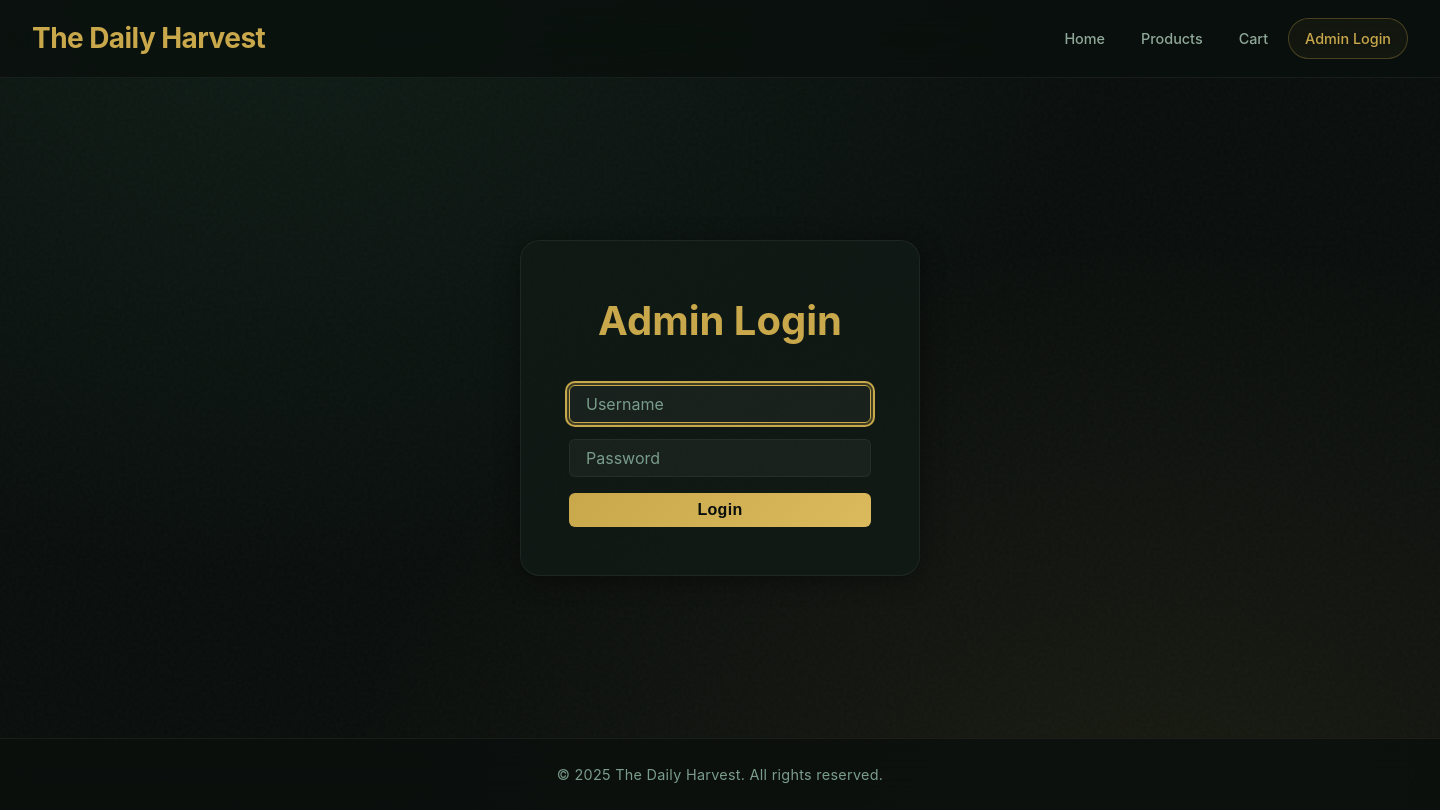
Test case: LoginPage › shows error for invalid credentials
Type "wrong" into the field with placeholder "Username" at [720, 404], box left=569, top=385, right=871, bottom=423
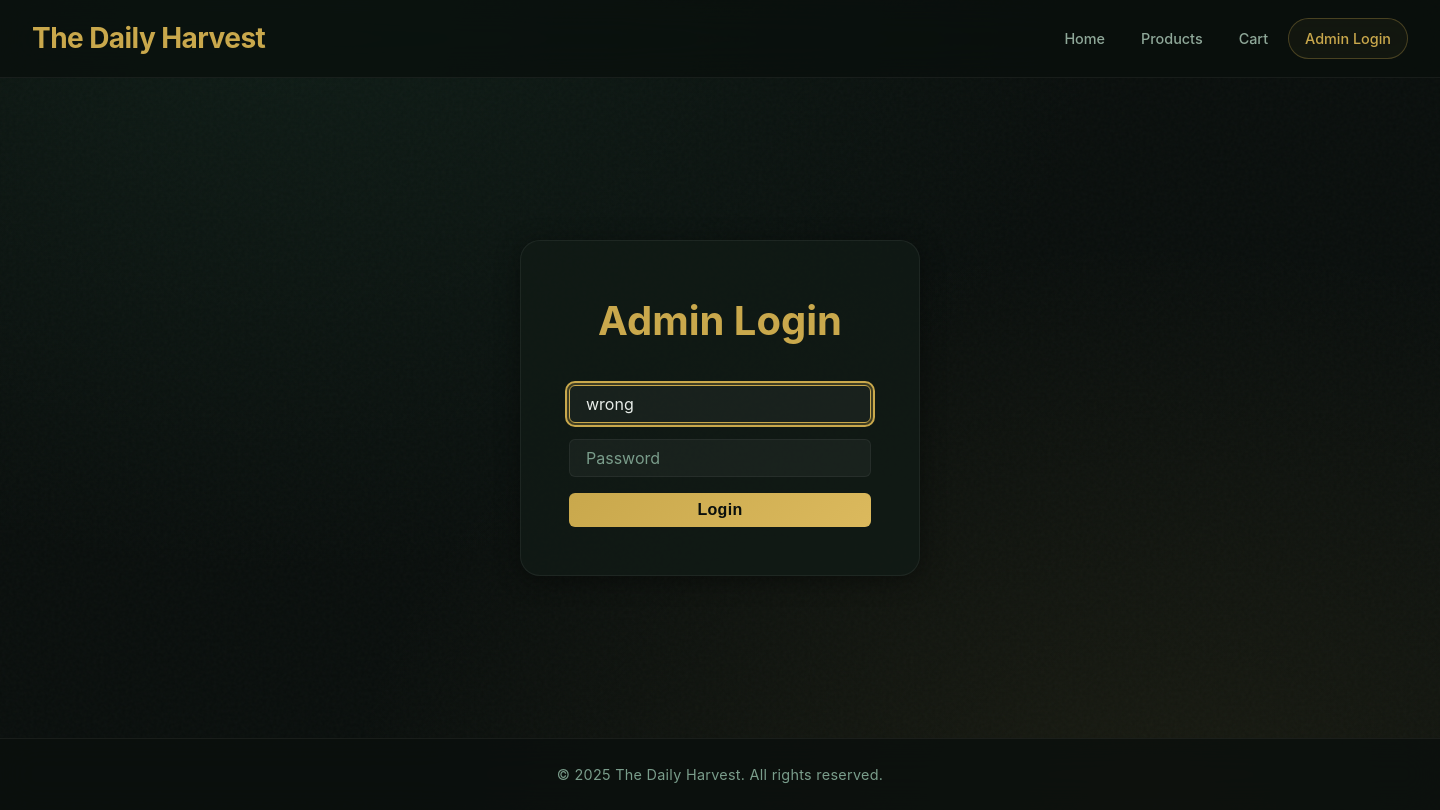
Type "wrong" into the password field with placeholder "Password" at [720, 458], box left=569, top=439, right=871, bottom=477
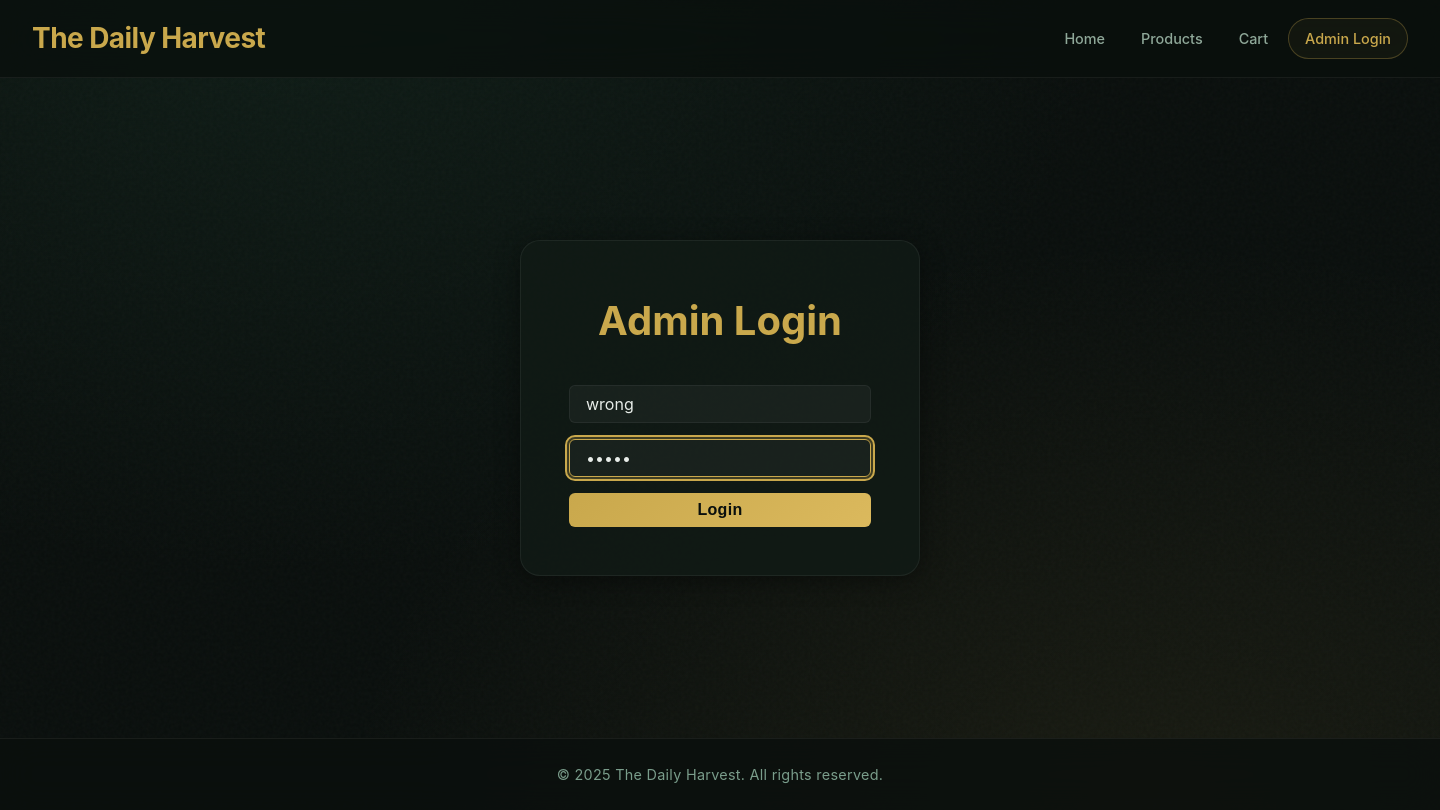
Click the button "Login" at [720, 510], box left=569, top=493, right=871, bottom=527
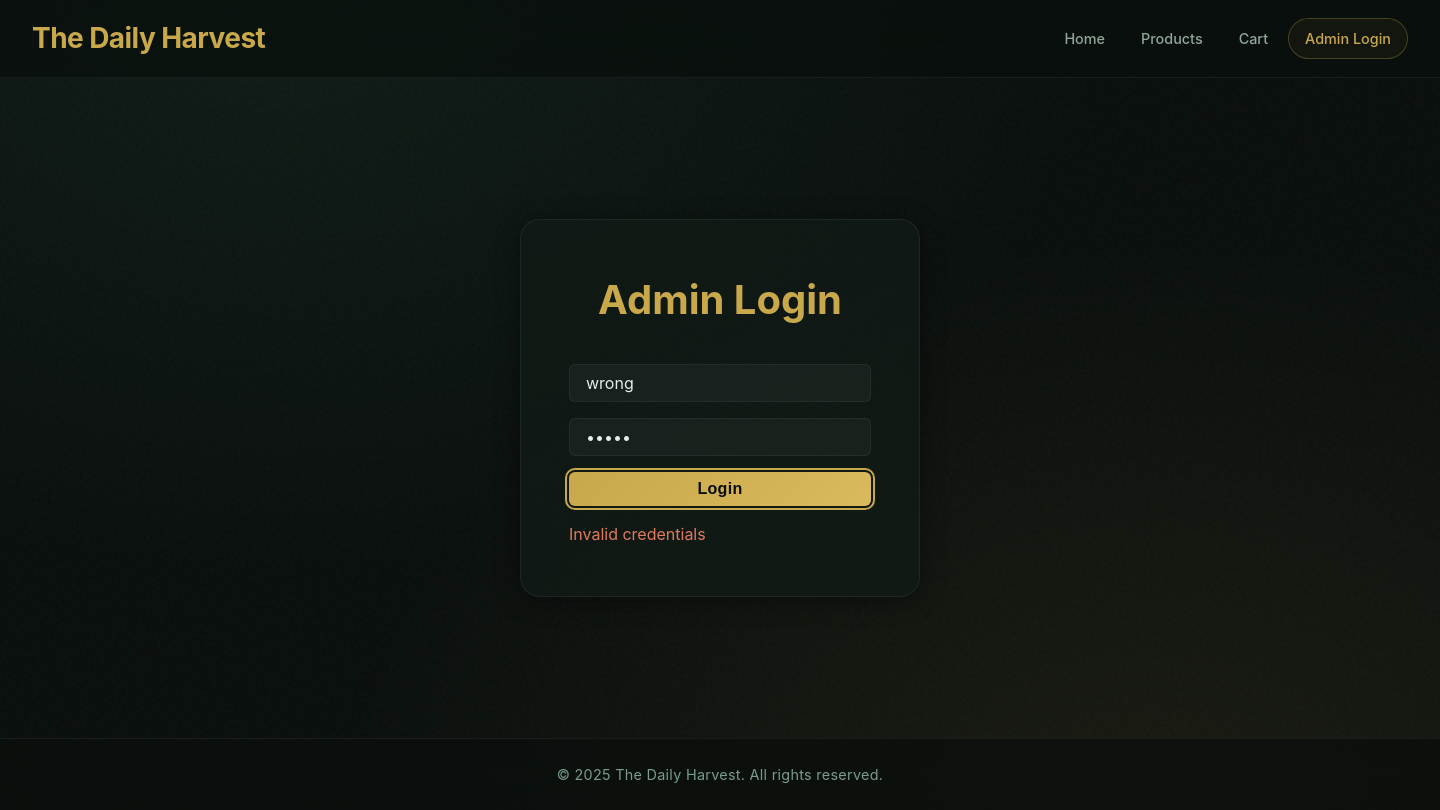
Result: the text "Invalid credentials" is shown at left=569, top=524, right=706, bottom=544
